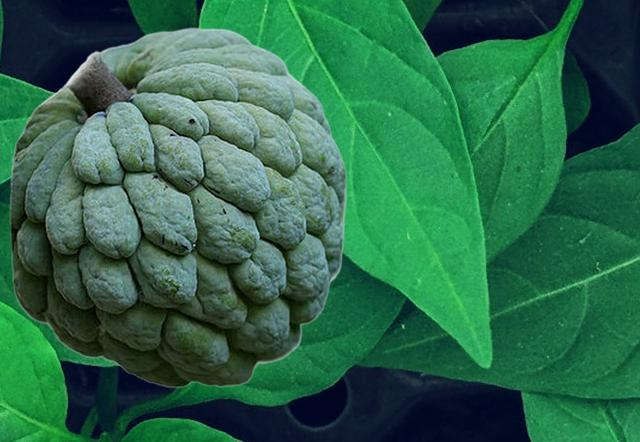atis: (9, 27, 346, 387)
